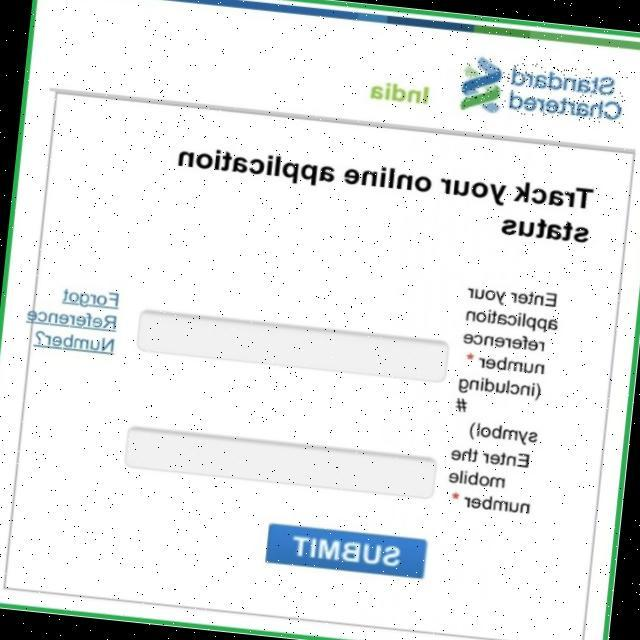Standard Chartered: (458, 56, 628, 125)
